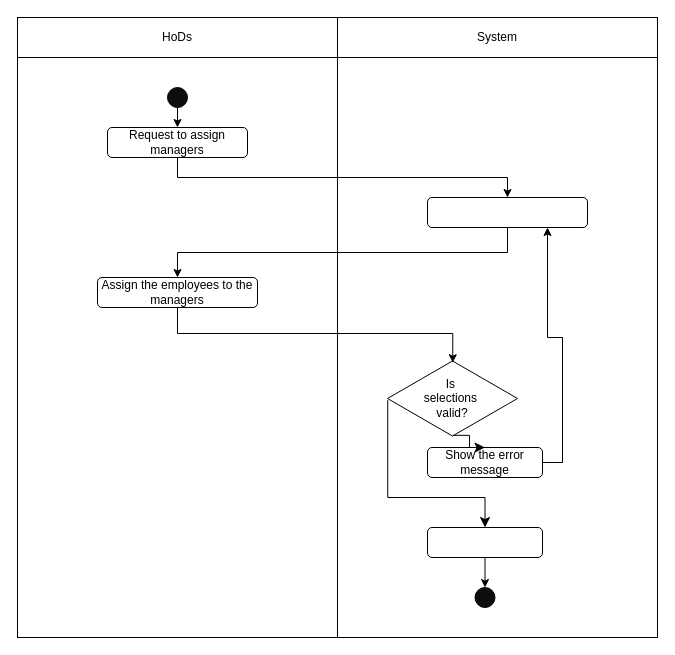
Image size: 675x655. Some labels were removed from this diagram. The centre of each missing label's shape, as x and y in pixels:
Do the assignments in the database: point (484, 542)
Show the available employees and managers: point (507, 212)
